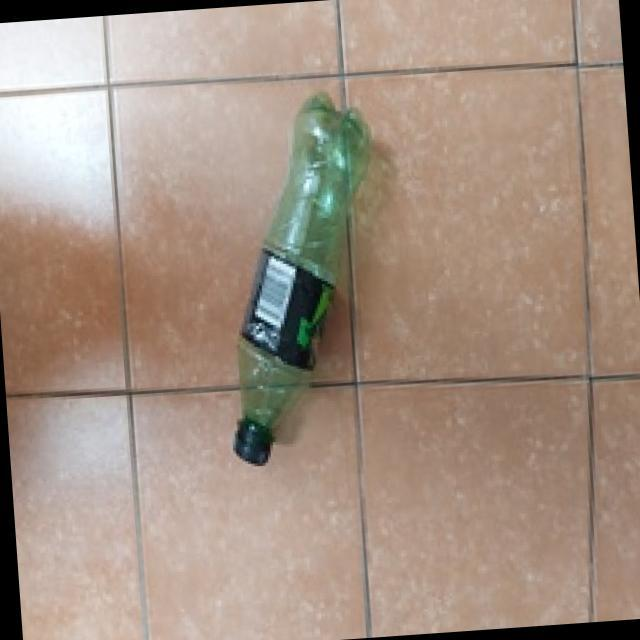good: (192, 81, 405, 478)
